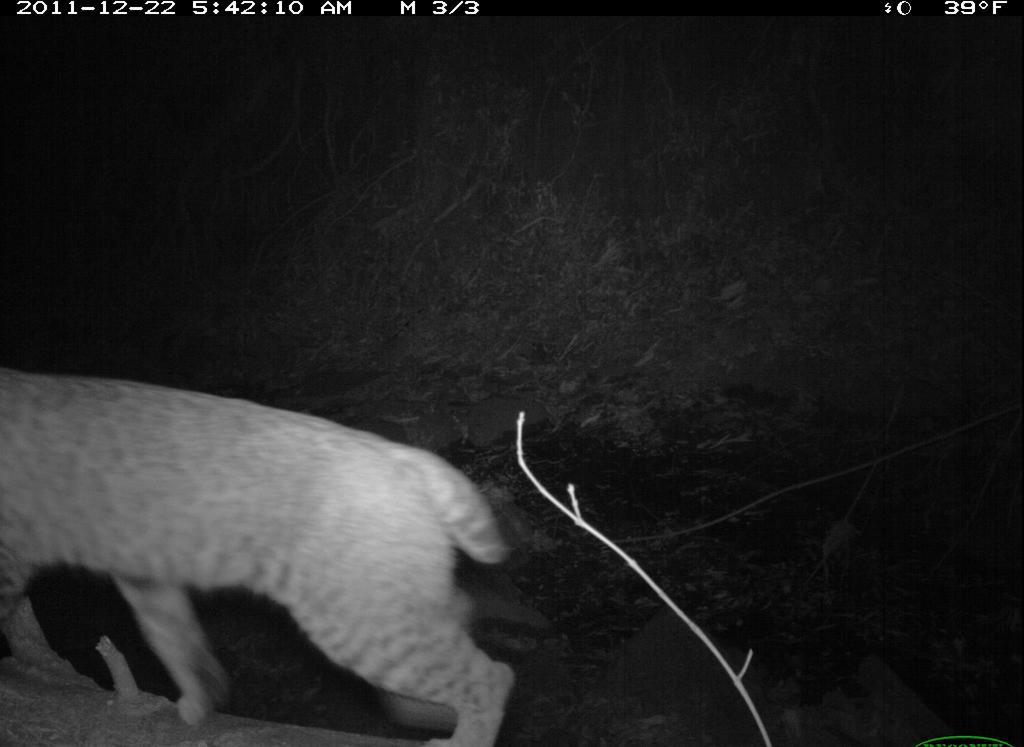bobcat: (1, 346, 529, 747)
